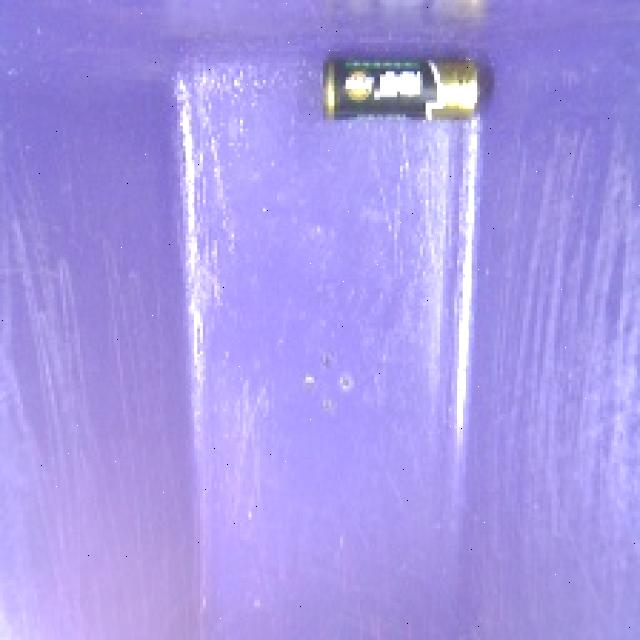battery: (314, 43, 490, 131)
